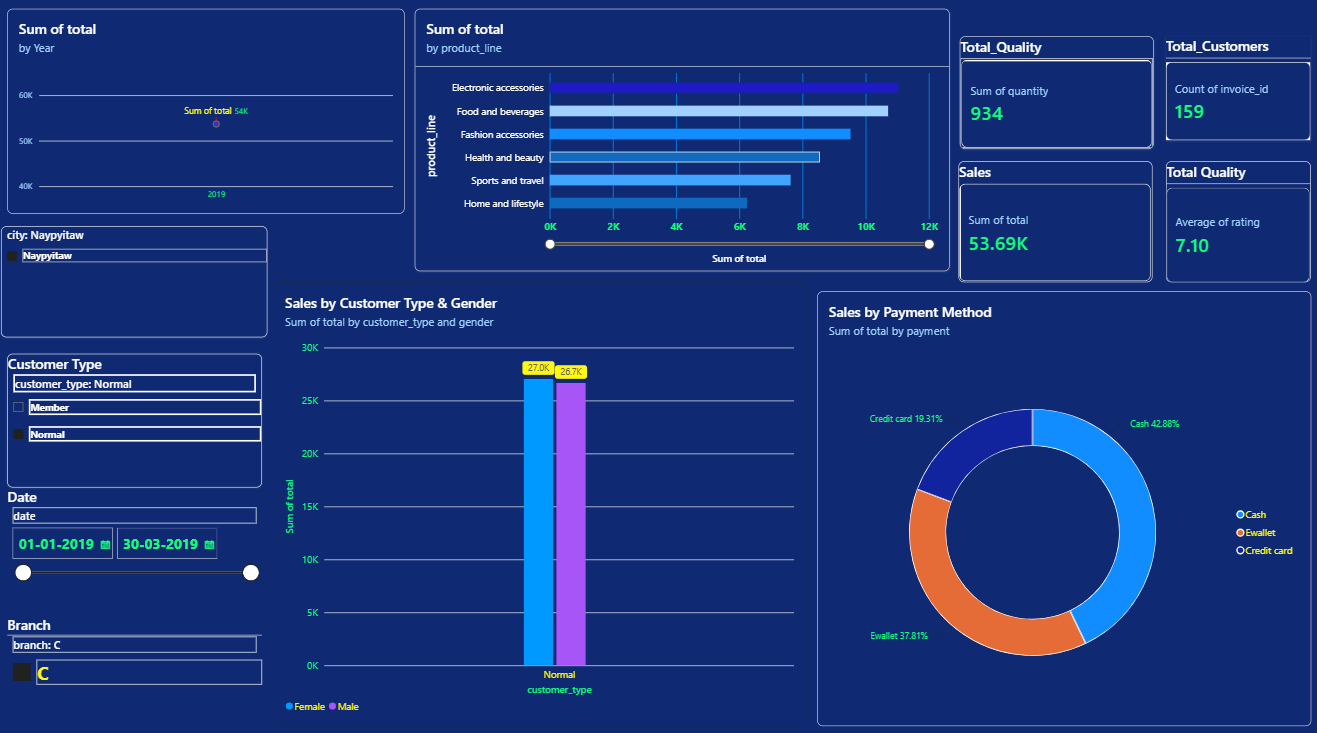

What the dashboard file says about the page in this screenshot:
{"tool":"powerbi","page":{"name":"Page 1","canvas":[1920,1080],"ordinal":0},"visuals":[{"type":"slicer","fields":{"Values":["cleaned_supermarket_sales.city"]},"box":[7.2,334.8,385.5,161.1],"z":0},{"type":"slicer","title":"Customer Type","fields":{"Values":["cleaned_supermarket_sales.customer_type"]},"box":[16.3,519.4,369.2,193.6],"z":1},{"type":"slicer","title":"Date","fields":{"Values":["cleaned_supermarket_sales.date"]},"box":[16.3,713,369.2,175.5],"z":2},{"type":"slicer","title":"Branch","fields":{"Values":["cleaned_supermarket_sales.branch"]},"box":[16.3,897.6,369.2,161.1],"z":3},{"type":"cardVisual","title":"Sales","fields":{"Data":["Sum(cleaned_supermarket_sales.total)"]},"box":[1393.4,240.7,280.5,175.5],"z":4},{"type":"cardVisual","title":"Total_Quality","fields":{"Data":["Sum(cleaned_supermarket_sales.quantity)"]},"box":[1395.2,59.7,280.5,162.9],"z":5},{"type":"cardVisual","title":"Total Quality","fields":{"Data":["Avg(cleaned_supermarket_sales.rating)"]},"box":[1693.8,240.7,209.9,175.5],"z":6},{"type":"cardVisual","title":"Total_Customers","fields":{"Data":["Count(cleaned_supermarket_sales.invoice_id)"]},"box":[1693.8,59.7,209.9,150.2],"z":7},{"type":"clusteredBarChart","fields":{"Category":["cleaned_supermarket_sales.product_line"],"Y":["Sum(cleaned_supermarket_sales.total)"]},"box":[606.2,19.9,774.5,380],"z":8},{"type":"lineChart","fields":{"Category":["cleaned_supermarket_sales.date.Variation.Date Hierarchy.Year","cleaned_supermarket_sales.date.Variation.Date Hierarchy.Quarter","cleaned_supermarket_sales.date.Variation.Date Hierarchy.Month","cleaned_supermarket_sales.date.Variation.Date Hierarchy.Day"],"Y":["Sum(cleaned_supermarket_sales.total)"]},"box":[16.3,19.9,575.5,296.8],"z":9},{"type":"donutChart","title":"Sales by Payment Method","fields":{"Category":["cleaned_supermarket_sales.payment"],"Y":["Sum(cleaned_supermarket_sales.total)"]},"box":[1188.9,428.9,714.8,629.8],"z":10},{"type":"clusteredColumnChart","title":"Sales by Customer Type & Gender","fields":{"Category":["cleaned_supermarket_sales.customer_type"],"Series":["cleaned_supermarket_sales.gender"],"Y":["Sum(cleaned_supermarket_sales.total)"]},"box":[401.7,416.2,770.9,642.4],"z":11}]}

Visuals, with their boxes in screenshot pixels (x1, y1, x2, y2), scaled from the page's 1920x1080 canvas onto the 1317x733 screenshot:
slicer - cleaned_supermarket_sales.city: [5,227,269,337]
"Customer Type" slicer: [11,353,264,484]
"Date" slicer: [11,484,264,603]
"Branch" slicer: [11,609,264,719]
"Sales" cardVisual: [956,163,1148,282]
"Total_Quality" cardVisual: [957,41,1149,151]
"Total Quality" cardVisual: [1162,163,1306,282]
"Total_Customers" cardVisual: [1162,41,1306,142]
clusteredBarChart - cleaned_supermarket_sales.product_line x Sum(cleaned_supermarket_sales.total): [416,14,947,271]
lineChart - cleaned_supermarket_sales.date.Variation.Date Hierarchy.Year x cleaned_supermarket_sales.date.Variation.Date Hierarchy.Quarter: [11,14,406,215]
"Sales by Payment Method" donutChart: [816,291,1306,719]
"Sales by Customer Type & Gender" clusteredColumnChart: [276,282,804,718]
